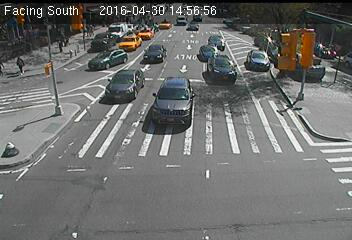neg: (199, 59, 228, 98), (305, 39, 324, 64), (259, 47, 274, 68), (40, 117, 55, 137), (87, 83, 101, 102), (1, 138, 14, 157), (323, 46, 336, 63), (39, 62, 50, 77)
pos: (12, 56, 28, 76), (56, 40, 66, 54), (87, 24, 97, 37)
